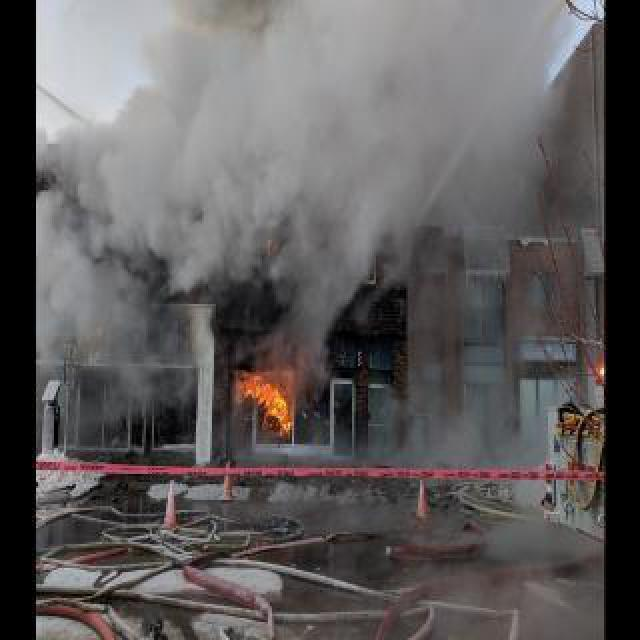Fire: (242, 356, 296, 448)
Smoke: (36, 96, 244, 400), (378, 192, 568, 466), (246, 194, 380, 356)
